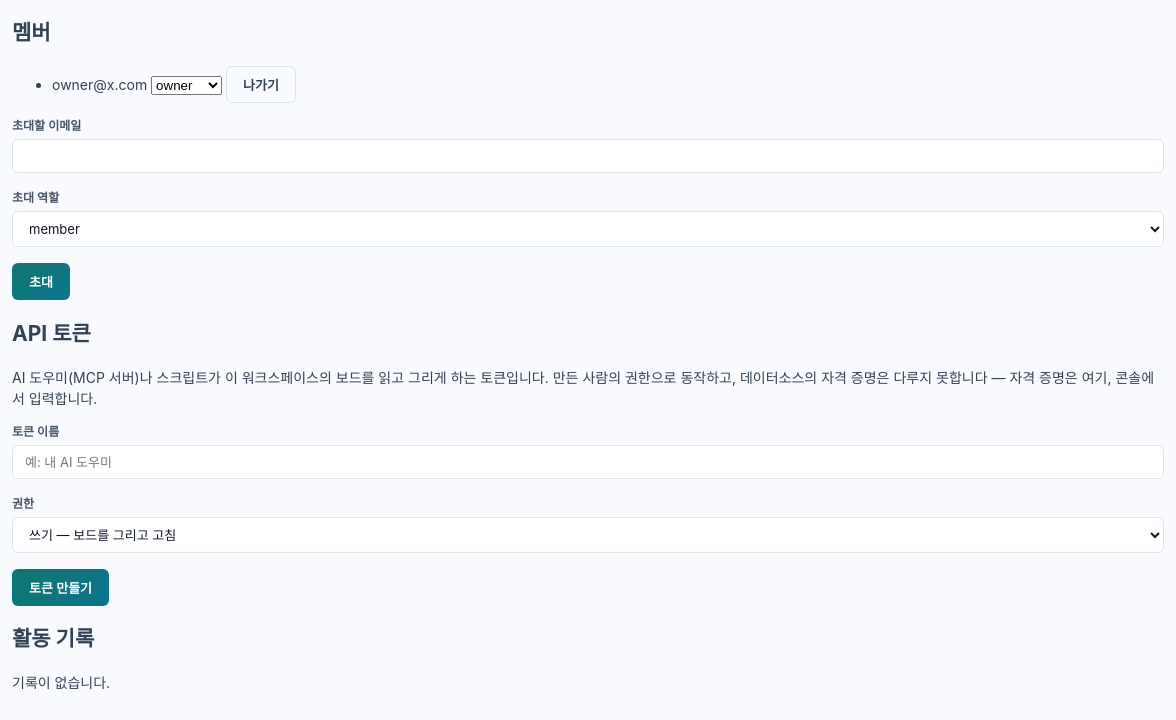
it: SettingsPage › keeps the user in place when leaving is refused as the last owner
The width and height of the screenshot is (1176, 720).
Click the button "나가기". click: coordinates (261, 85)
box: left=226, top=66, right=296, bottom=103
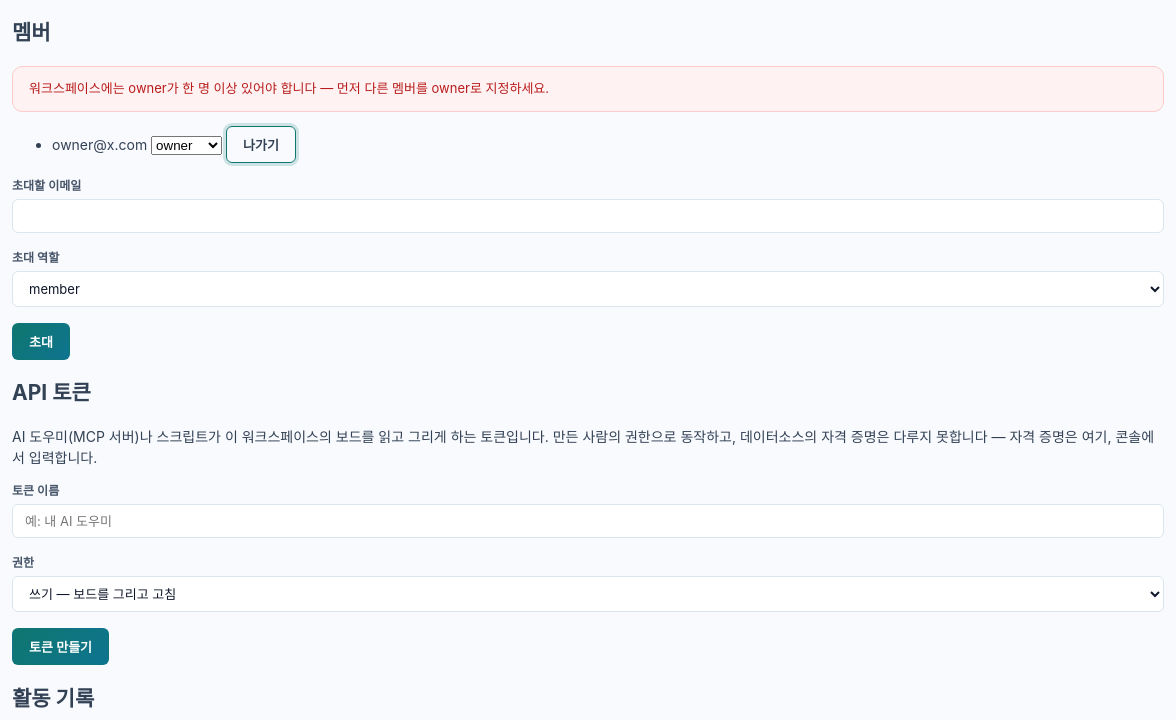
Result: the message shows "owner가 한 명 이상" at left=29, top=80, right=549, bottom=96
